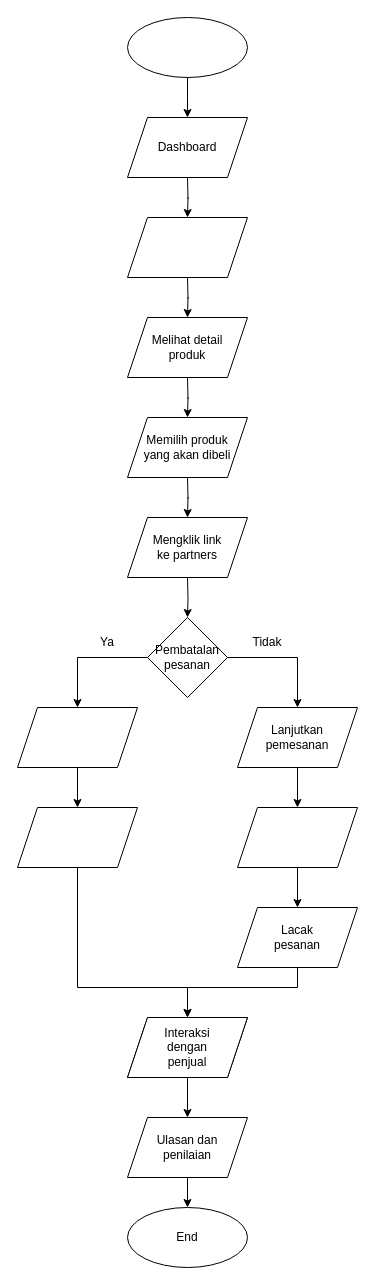
Image size: 375x1285. Some labels were removed from this diagram. Here are the shapes that lost their labels. From the top down, the box of each, then its label:
(126, 16, 248, 78): Mulai
(126, 216, 248, 278): Cari produk
(16, 706, 138, 768): Pembatalan diproses
(16, 806, 138, 868): Pembatalan pesanan berhasil
(236, 806, 358, 868): Pemesanan diproses
